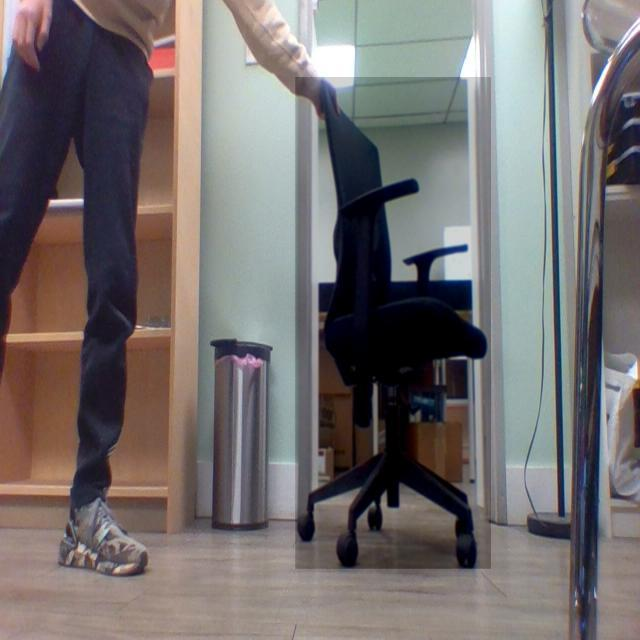chair: (251, 65, 505, 593)
